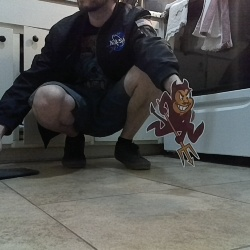sparky: (145, 77, 206, 168)
